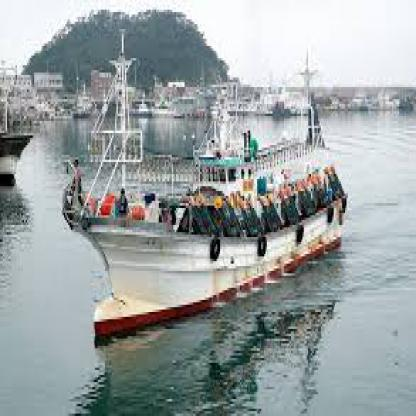fish-b: (51, 90, 354, 353)
